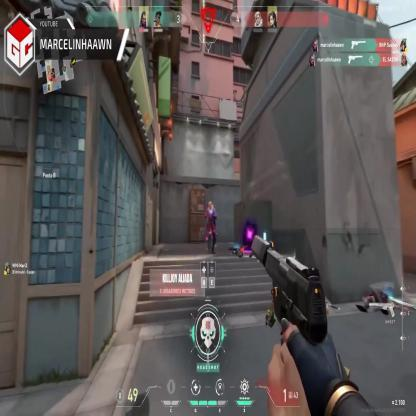enemy: (204, 202, 216, 254)
enemy_head: (208, 201, 212, 210)
